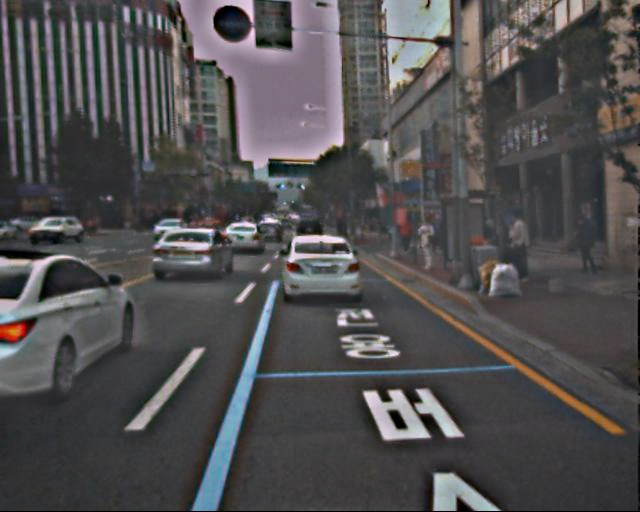person: (503, 214, 532, 285), (570, 214, 597, 279), (415, 217, 439, 275), (395, 215, 412, 257)
